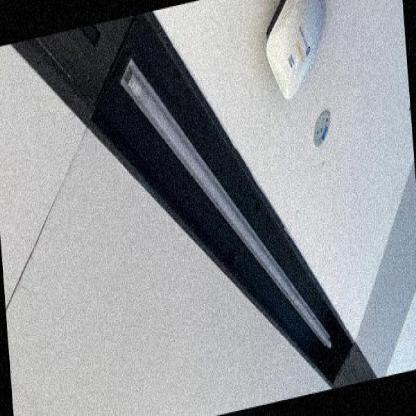light_off: (115, 6, 339, 400)
